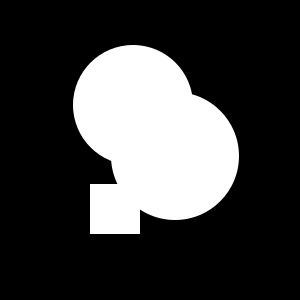circle: (90, 184, 140, 234)
rectangle: (111, 92, 239, 220), (73, 45, 193, 165)
triangle: (210, 116, 218, 124)
